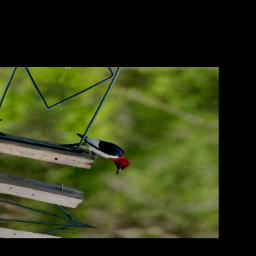Woodpecker: (61, 133, 139, 176)
